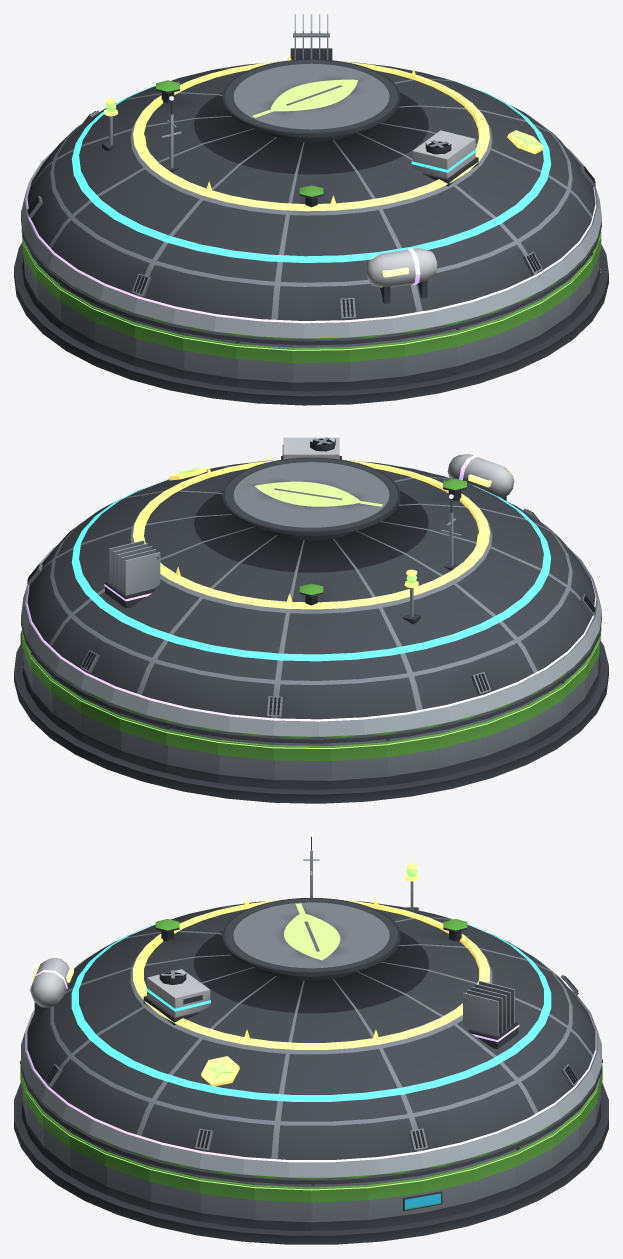
Rendered from fungus_farm_m.glb.
3 views of the same model, one above another, from view 1: azimuth 30°, elevation 25°; view 2: azimuth 150°, elevation 25°; view 3: azimuth 270°, elevation 25° (orthographic).
Visible parts, largest first — view 1: Roof, Base, L3, L5, L4, Wall_21, Wall_20, Wall_22, Wall_19, Wall_23, Wall_18, Wall_24 (+17 smaller); view 2: Roof, Base, L3, L5, L4, Wall_10, Wall_11, Wall_09, Wall_12, Wall_08, Wall_13, Wall_07 (+19 smaller); view 3: Roof, Base, L3, L5, L4, Wall_00, Wall_31, Wall_30, Wall_29, Wall_01, Wall_02, Wall_28 (+17 smaller).
Boxes of the visible parts, left/top/right/bottom form: Roof: left=21, top=59, right=601, bottom=345; Base: left=14, top=242, right=608, bottom=405; L3: left=71, top=78, right=551, bottom=262; L5: left=102, top=54, right=543, bottom=211; L4: left=290, top=14, right=437, bottom=304; Wall_21: left=292, top=344, right=349, bottom=391; Wall_20: left=236, top=340, right=292, bottom=390; Wall_22: left=349, top=339, right=404, bottom=390; Wall_19: left=183, top=332, right=236, bottom=386; Wall_23: left=404, top=329, right=456, bottom=384; Wall_18: left=134, top=320, right=183, bottom=378; Wall_24: left=456, top=315, right=502, bottom=374; Roof: left=21, top=457, right=601, bottom=743; Base: left=14, top=640, right=608, bottom=803; L3: left=71, top=437, right=550, bottom=661; L5: left=133, top=459, right=489, bottom=624; L4: left=104, top=454, right=514, bottom=608; Wall_10: left=273, top=742, right=330, bottom=789; Wall_11: left=330, top=739, right=386, bottom=789; Wall_09: left=218, top=737, right=273, bottom=788; Wall_12: left=386, top=731, right=439, bottom=785; Wall_08: left=166, top=726, right=218, bottom=782; Wall_13: left=439, top=719, right=488, bottom=776; Wall_07: left=120, top=713, right=166, bottom=772; Roof: left=21, top=897, right=601, bottom=1184; Base: left=14, top=1082, right=608, bottom=1244; L3: left=71, top=923, right=551, bottom=1101; L5: left=133, top=863, right=489, bottom=1086; L4: left=30, top=958, right=519, bottom=1048; Wall_00: left=311, top=1182, right=368, bottom=1230; Wall_31: left=254, top=1182, right=311, bottom=1230; Wall_30: left=200, top=1175, right=254, bottom=1228; Wall_29: left=149, top=1164, right=200, bottom=1221; Wall_01: left=368, top=1175, right=422, bottom=1228; Wall_02: left=422, top=1164, right=473, bottom=1221; Wall_28: left=105, top=1147, right=150, bottom=1209.
Bounding box in the file's own units: 14.75 × 5.95 × 14.75.
